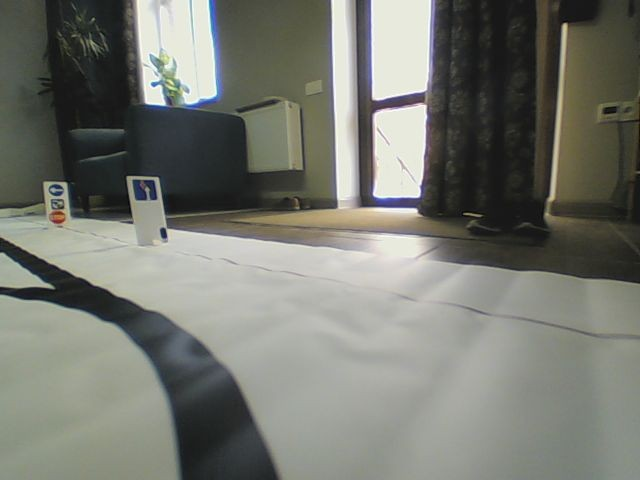priority_movement: (130, 177, 158, 202)
